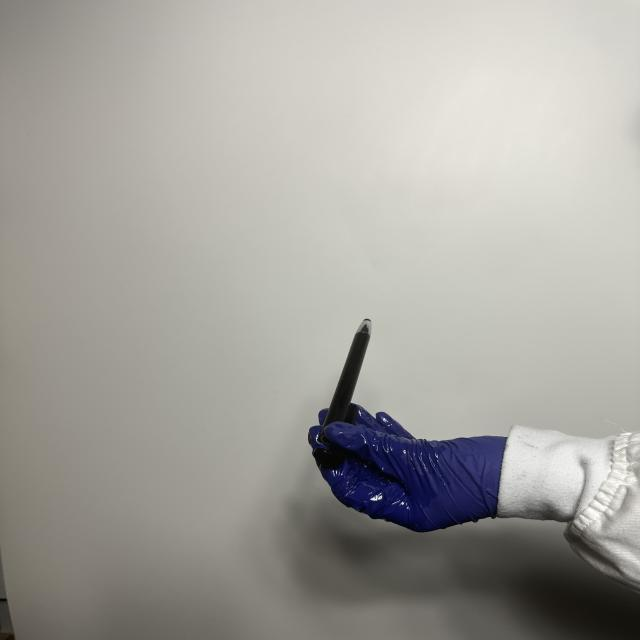gloves_contaminated: (308, 407, 506, 532)
